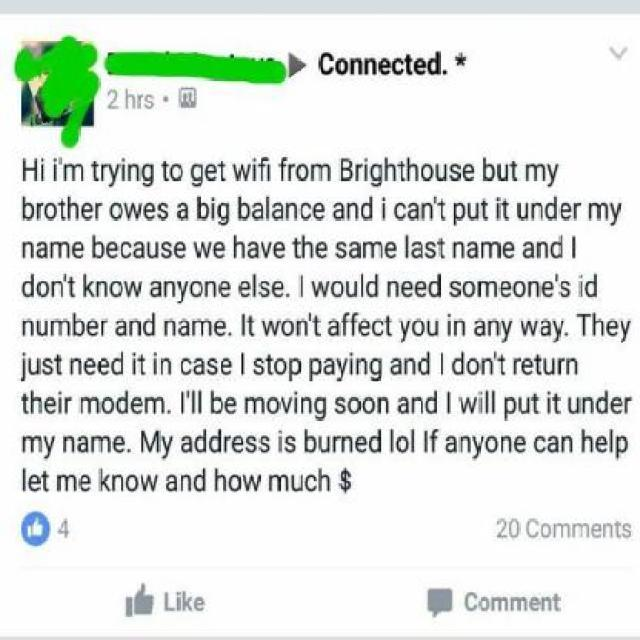0: (508, 518, 520, 538)
2: (106, 90, 120, 110), (496, 518, 509, 538)
4: (57, 517, 71, 540)
A: (34, 240, 49, 260), (410, 240, 424, 260), (466, 239, 480, 259), (522, 240, 536, 260), (538, 318, 552, 338), (77, 434, 91, 454), (444, 434, 458, 454), (252, 202, 266, 221), (270, 202, 284, 221), (332, 202, 346, 221), (114, 318, 128, 337), (472, 318, 486, 337), (247, 240, 260, 260), (348, 240, 361, 260), (133, 240, 147, 258), (322, 357, 336, 375), (390, 357, 404, 375), (397, 396, 411, 414), (547, 436, 561, 454), (176, 202, 189, 221), (328, 318, 340, 338), (192, 357, 205, 375), (180, 436, 193, 454), (165, 474, 178, 492), (408, 202, 420, 221), (150, 279, 162, 298), (178, 318, 190, 337)
B: (197, 196, 211, 222), (304, 428, 318, 454), (482, 156, 496, 182), (22, 196, 35, 222), (92, 234, 105, 260), (238, 195, 251, 220), (72, 313, 85, 338), (210, 390, 223, 415), (340, 156, 352, 182)
C: (318, 52, 334, 76), (119, 240, 133, 260), (526, 518, 540, 538), (464, 592, 478, 611), (394, 202, 408, 220), (179, 357, 193, 375), (532, 436, 546, 454), (304, 474, 318, 492), (372, 318, 385, 337), (299, 202, 312, 220), (392, 58, 406, 74)
D: (427, 50, 441, 76), (20, 272, 34, 298), (142, 312, 156, 338), (208, 428, 222, 454), (368, 428, 382, 454), (360, 195, 374, 220), (544, 195, 558, 220), (584, 273, 598, 298), (424, 389, 438, 414), (594, 390, 608, 415), (451, 350, 464, 376), (110, 352, 124, 376), (193, 468, 207, 492), (428, 272, 441, 297), (116, 390, 129, 415), (550, 234, 562, 260), (195, 428, 208, 452), (417, 352, 431, 374), (366, 274, 379, 297)
E: (378, 56, 392, 76), (173, 240, 187, 260), (212, 240, 226, 260), (272, 240, 286, 260), (384, 240, 398, 260), (502, 240, 516, 260), (358, 318, 372, 338), (96, 357, 110, 377), (43, 396, 57, 416), (413, 56, 427, 76), (143, 202, 157, 221), (312, 202, 326, 221), (558, 202, 572, 221), (218, 279, 232, 298), (238, 279, 252, 298), (270, 279, 284, 298), (400, 279, 414, 298), (414, 279, 428, 298), (498, 279, 512, 298), (540, 279, 554, 298), (86, 318, 100, 337), (212, 319, 226, 338), (606, 318, 620, 337), (27, 473, 41, 492), (72, 240, 85, 260), (105, 240, 118, 260), (314, 240, 328, 258), (83, 358, 97, 376), (219, 358, 233, 376), (130, 396, 144, 414), (224, 396, 238, 414), (609, 396, 623, 414), (112, 436, 126, 454), (230, 436, 244, 454), (354, 436, 368, 454), (514, 436, 528, 454), (594, 436, 608, 454), (78, 475, 92, 493), (204, 164, 218, 181), (462, 164, 476, 181), (81, 202, 94, 220), (521, 358, 534, 376), (192, 596, 205, 612), (592, 522, 602, 540), (529, 596, 540, 612)
F: (280, 156, 288, 182), (350, 310, 358, 336), (258, 156, 266, 181), (431, 428, 438, 454), (342, 312, 349, 336)
G: (190, 162, 204, 188), (142, 163, 156, 188), (370, 163, 384, 188), (216, 202, 230, 227), (314, 396, 328, 421), (370, 356, 382, 382)
H: (22, 158, 40, 182), (300, 234, 314, 260), (214, 466, 228, 492), (581, 428, 594, 454), (318, 466, 331, 492), (406, 156, 419, 181), (232, 234, 245, 258), (592, 312, 605, 336), (384, 156, 396, 181), (68, 195, 80, 220), (30, 390, 42, 415), (124, 89, 136, 109)
I: (40, 156, 46, 182), (293, 390, 299, 415), (478, 390, 484, 415), (546, 390, 552, 415), (578, 274, 584, 298), (446, 313, 452, 336), (240, 313, 246, 336), (240, 352, 246, 374), (446, 392, 452, 414), (252, 156, 257, 181), (266, 156, 271, 181), (496, 196, 501, 221), (349, 352, 354, 377), (210, 196, 215, 219), (152, 353, 157, 375), (299, 274, 304, 296), (440, 352, 445, 374), (58, 390, 62, 416), (572, 234, 576, 260), (382, 196, 386, 221), (54, 157, 58, 180), (122, 157, 126, 180), (364, 157, 368, 180), (176, 592, 181, 610), (278, 430, 282, 452), (424, 432, 428, 454), (133, 353, 136, 375), (181, 392, 184, 414)
J: (20, 352, 26, 382)
K: (82, 273, 96, 299), (98, 468, 111, 490), (181, 590, 194, 612)
L: (163, 592, 174, 612), (404, 235, 410, 258), (22, 466, 27, 492), (265, 196, 270, 218), (492, 389, 496, 414), (198, 392, 202, 414), (610, 428, 613, 454), (253, 272, 256, 297), (360, 272, 363, 297), (391, 428, 394, 452), (411, 428, 414, 452), (486, 388, 488, 414), (192, 390, 194, 415)
M: (140, 430, 160, 453), (588, 200, 610, 220), (49, 240, 71, 260), (49, 318, 71, 337), (362, 240, 382, 260), (20, 435, 42, 453), (478, 279, 498, 298), (192, 318, 212, 337), (57, 473, 77, 492), (268, 473, 288, 492), (63, 164, 85, 181), (78, 396, 100, 413), (480, 240, 500, 258), (244, 396, 264, 414), (91, 435, 111, 453), (311, 164, 331, 181), (526, 163, 546, 180), (144, 396, 164, 413), (509, 596, 528, 612), (572, 522, 590, 538), (490, 595, 508, 611), (553, 521, 570, 537)
N: (363, 56, 377, 76), (450, 240, 464, 260), (50, 279, 64, 298), (94, 278, 108, 297), (527, 279, 541, 298), (487, 318, 501, 337), (284, 202, 298, 220), (403, 357, 417, 375), (410, 396, 424, 414), (580, 396, 594, 414), (386, 279, 399, 298), (296, 318, 309, 337), (179, 473, 192, 492), (205, 279, 218, 298), (350, 56, 362, 76), (61, 436, 76, 452), (127, 163, 141, 180), (346, 202, 359, 220), (421, 202, 434, 220), (536, 240, 549, 258), (481, 357, 494, 375), (566, 357, 579, 375), (376, 396, 389, 414), (458, 436, 471, 454), (111, 474, 124, 492), (164, 278, 176, 297), (164, 318, 176, 337), (340, 436, 354, 452), (299, 397, 312, 414), (22, 240, 33, 260), (500, 436, 512, 454), (22, 318, 33, 337), (129, 320, 142, 336), (69, 358, 82, 374), (159, 358, 172, 374), (355, 358, 368, 374), (561, 436, 574, 452), (454, 320, 466, 336), (532, 202, 542, 218), (603, 522, 612, 538), (542, 596, 550, 612)
O: (109, 279, 123, 298), (189, 279, 203, 298), (330, 278, 344, 297), (462, 278, 476, 297), (280, 318, 294, 337), (412, 318, 426, 337), (170, 162, 184, 181), (296, 162, 310, 181), (336, 56, 349, 76), (43, 202, 57, 220), (109, 202, 123, 220), (273, 357, 287, 375), (466, 357, 480, 375), (266, 396, 280, 414), (348, 396, 362, 414), (362, 396, 376, 414), (396, 436, 410, 454), (484, 436, 498, 454), (228, 475, 242, 493), (125, 473, 138, 492), (420, 163, 434, 180), (36, 280, 50, 297), (512, 280, 526, 297), (101, 396, 114, 414), (540, 522, 552, 538), (478, 596, 490, 612)
P: (453, 201, 467, 227), (504, 395, 518, 420), (289, 356, 302, 382), (308, 358, 322, 382), (616, 435, 629, 460)
R: (64, 396, 73, 414), (36, 200, 44, 220), (287, 163, 296, 180), (94, 202, 102, 220), (557, 358, 566, 374), (624, 396, 632, 414), (332, 435, 340, 453), (100, 163, 108, 180), (136, 94, 144, 110), (573, 202, 581, 218), (100, 320, 108, 336), (513, 358, 521, 374), (224, 436, 232, 452), (354, 164, 362, 179)
S: (334, 240, 348, 260), (424, 240, 438, 258), (40, 358, 54, 376), (206, 357, 220, 375), (252, 357, 266, 375), (244, 436, 258, 454), (283, 436, 297, 454), (156, 202, 169, 221), (258, 279, 271, 298), (448, 279, 461, 298), (558, 279, 571, 298), (449, 163, 462, 180), (334, 396, 346, 414), (258, 436, 270, 454), (162, 240, 172, 260), (620, 522, 632, 538), (144, 94, 153, 110)
T: (575, 312, 591, 337), (292, 235, 300, 260), (161, 159, 170, 181), (397, 158, 406, 180), (57, 198, 66, 220), (312, 314, 321, 336), (497, 354, 506, 376), (137, 356, 146, 376), (40, 472, 49, 492), (405, 53, 413, 75), (92, 159, 100, 181), (510, 159, 518, 181), (438, 198, 446, 220), (480, 198, 488, 220), (68, 276, 76, 298), (384, 314, 392, 336), (265, 354, 273, 376), (534, 354, 542, 376), (530, 393, 538, 415), (552, 393, 560, 415), (438, 238, 446, 258), (246, 316, 254, 336), (54, 356, 62, 376), (502, 198, 509, 220), (22, 392, 29, 414), (218, 159, 225, 181), (613, 520, 621, 538), (552, 594, 560, 612)
U: (34, 318, 49, 337), (146, 240, 160, 260), (434, 162, 448, 181), (542, 357, 556, 375), (290, 474, 304, 492), (426, 318, 439, 337), (344, 280, 358, 297), (466, 202, 479, 220), (516, 202, 529, 220), (318, 436, 331, 454), (518, 396, 530, 414), (568, 397, 580, 414), (29, 357, 40, 375), (496, 164, 509, 179)
V: (260, 240, 274, 260), (280, 396, 294, 413)
W: (261, 318, 281, 337), (139, 473, 159, 492), (193, 240, 212, 260), (312, 278, 331, 297), (123, 280, 143, 298), (123, 202, 143, 220), (520, 319, 538, 338), (242, 474, 262, 491), (232, 164, 251, 181), (458, 398, 478, 414)
Y: (608, 201, 622, 227), (546, 163, 560, 188), (552, 318, 565, 344), (336, 356, 349, 382), (160, 434, 173, 460), (500, 318, 514, 342), (472, 435, 485, 460), (398, 318, 410, 342), (177, 280, 188, 306), (108, 164, 120, 187), (620, 319, 631, 344), (44, 435, 54, 460)
